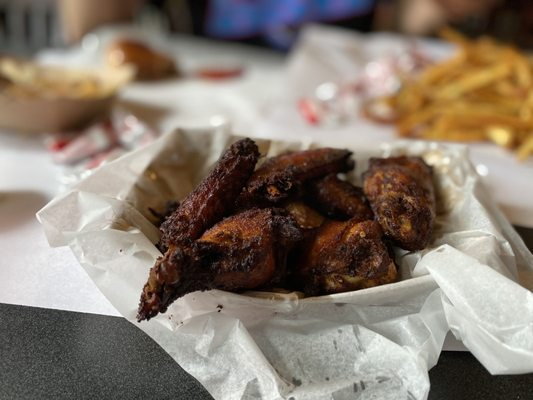sushi: (0, 51, 135, 135)
